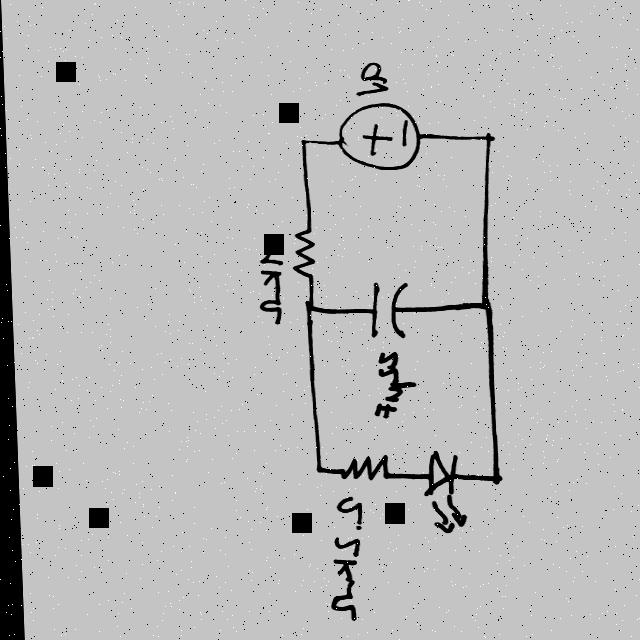capacitor: (359, 278, 409, 344)
diode: (417, 447, 462, 536)
junction: (474, 126, 500, 151), (290, 132, 312, 155), (469, 296, 493, 316), (299, 299, 320, 321), (482, 469, 502, 489), (305, 463, 322, 482)
resistor: (286, 229, 321, 279), (339, 451, 387, 487)
source: (332, 100, 427, 178)
text: (318, 491, 362, 624), (367, 345, 414, 421), (251, 247, 284, 327), (353, 58, 392, 99)
